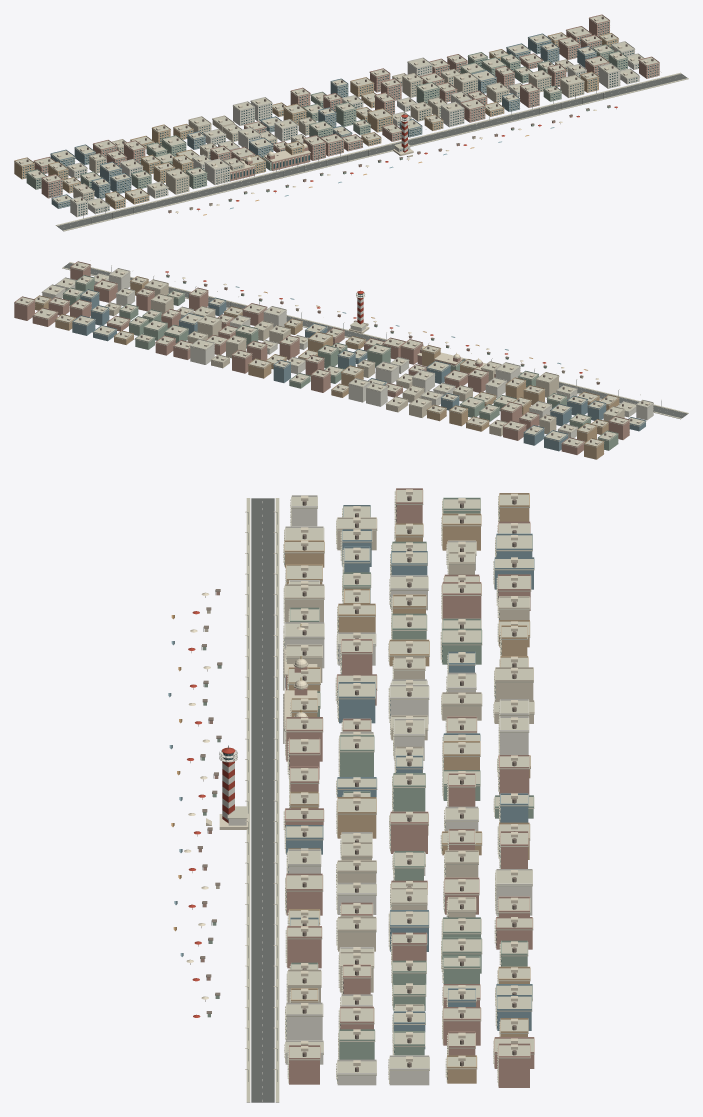
File: chennai.glb
The picture shows the model from 3 angles, top to bottom: view 1: azimuth 30°, elevation 25°; view 2: azimuth 150°, elevation 25°; view 3: azimuth 270°, elevation 25°; orthographic projection. The views are drawn at different scales.
Parts seen in each view (by area): view 1: trim, rose, ivory, white, glass, sandstone, mint, road, blue, roof; view 2: trim, rose, ivory, white, sandstone, mint, blue, roof, road; view 3: trim, rose, ivory, road, white, mint, sandstone, blue, roof, metal.
Part boxes in pixels (<box>): trim: <box>14,15,688,231</box>; rose: <box>34,14,659,213</box>; ivory: <box>19,18,668,218</box>; white: <box>67,41,644,225</box>; glass: <box>23,22,658,215</box>; sandstone: <box>14,32,618,209</box>; mint: <box>26,44,627,201</box>; road: <box>57,74,687,230</box>; blue: <box>50,33,596,208</box>; roof: <box>26,16,653,211</box>; trim: <box>14,262,688,447</box>; rose: <box>14,261,629,454</box>; ivory: <box>25,260,661,444</box>; white: <box>42,265,653,438</box>; sandstone: <box>34,276,619,459</box>; mint: <box>63,275,618,450</box>; blue: <box>72,286,645,451</box>; roof: <box>20,263,643,442</box>; road: <box>63,263,687,418</box>; trim: <box>227,490,534,1102</box>; rose: <box>198,488,534,1087</box>; ivory: <box>184,489,534,1069</box>; road: <box>251,498,274,1102</box>; white: <box>219,495,532,1101</box>; mint: <box>201,497,533,1059</box>; sandstone: <box>284,493,530,1083</box>; blue: <box>168,505,534,1048</box>; roof: <box>197,495,516,1071</box>; metal: <box>200,512,277,1081</box>.
Bounding box in the file's own units: 790 × 47.7 × 203.
